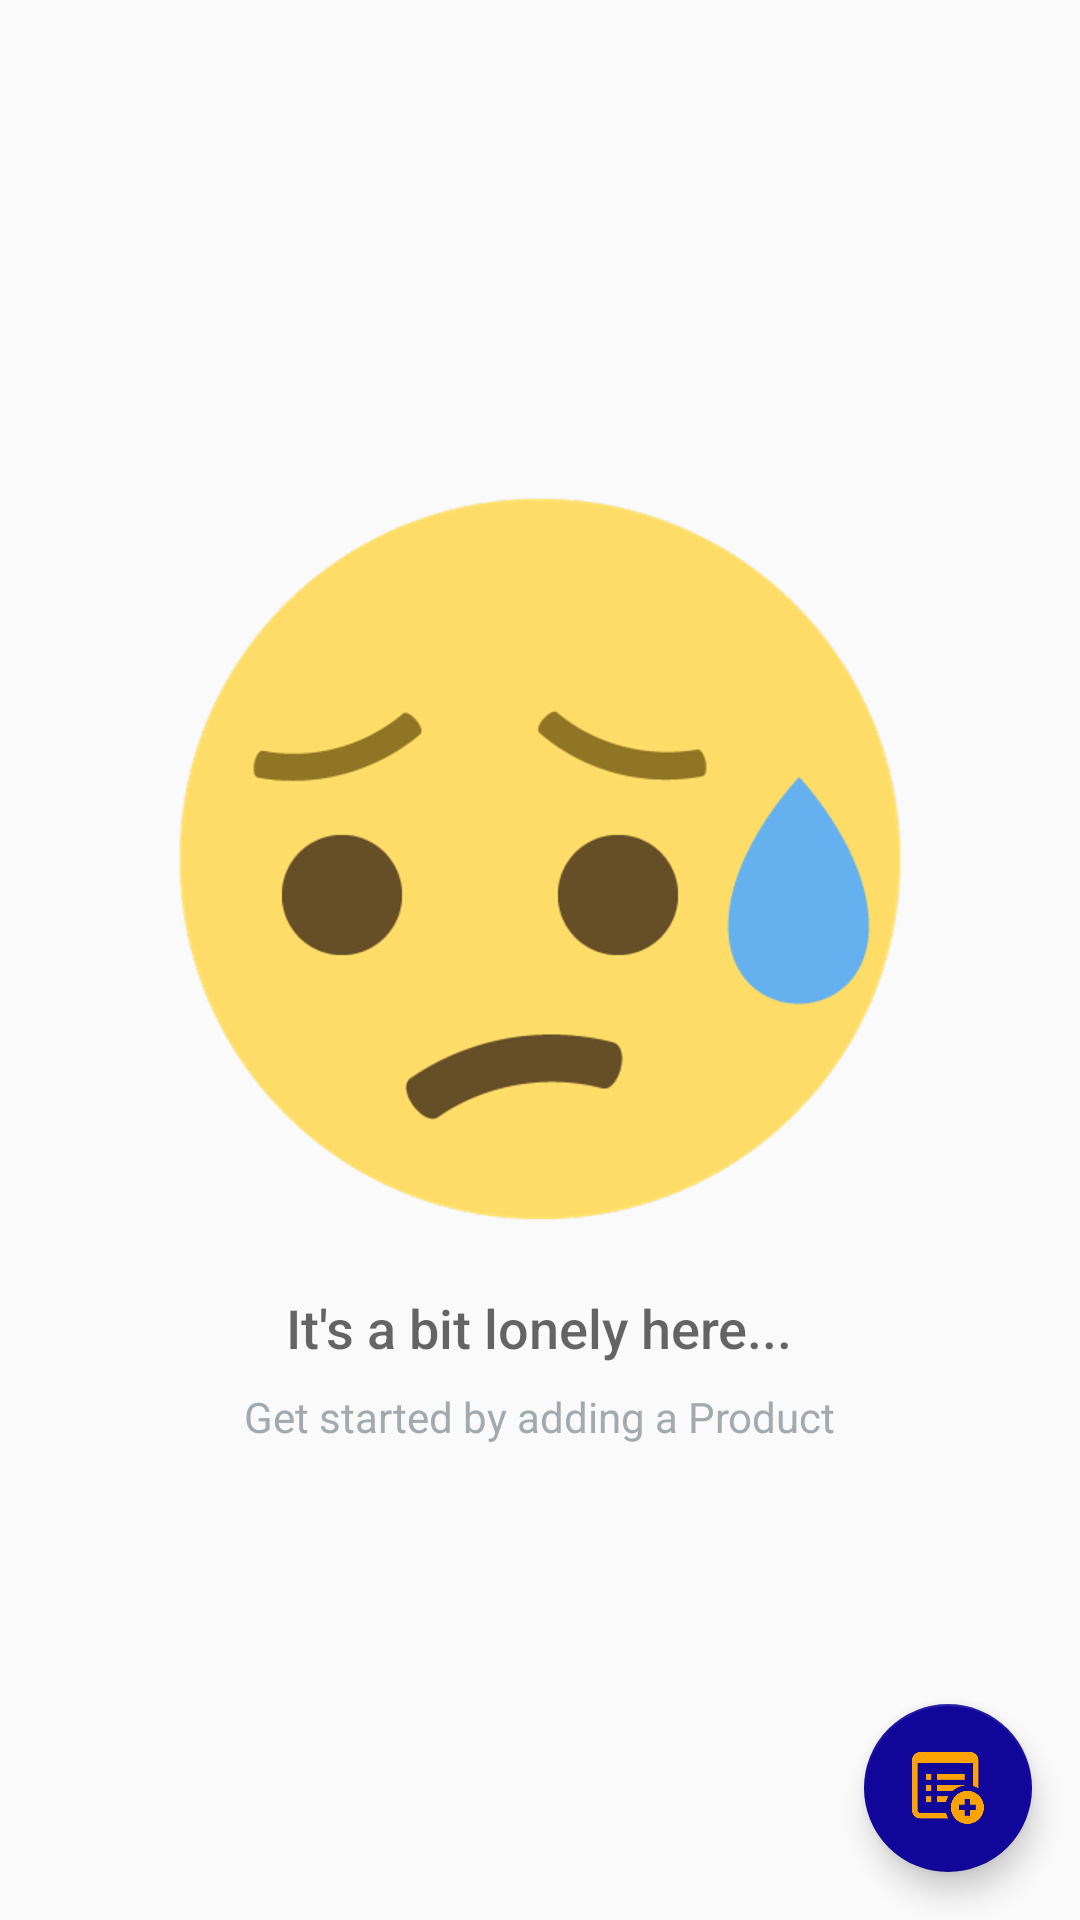

Where icons sit on this 1080px×1920px app screen, as (x1, y1, x2, y2):
add product: (864, 1704, 1032, 1872)
